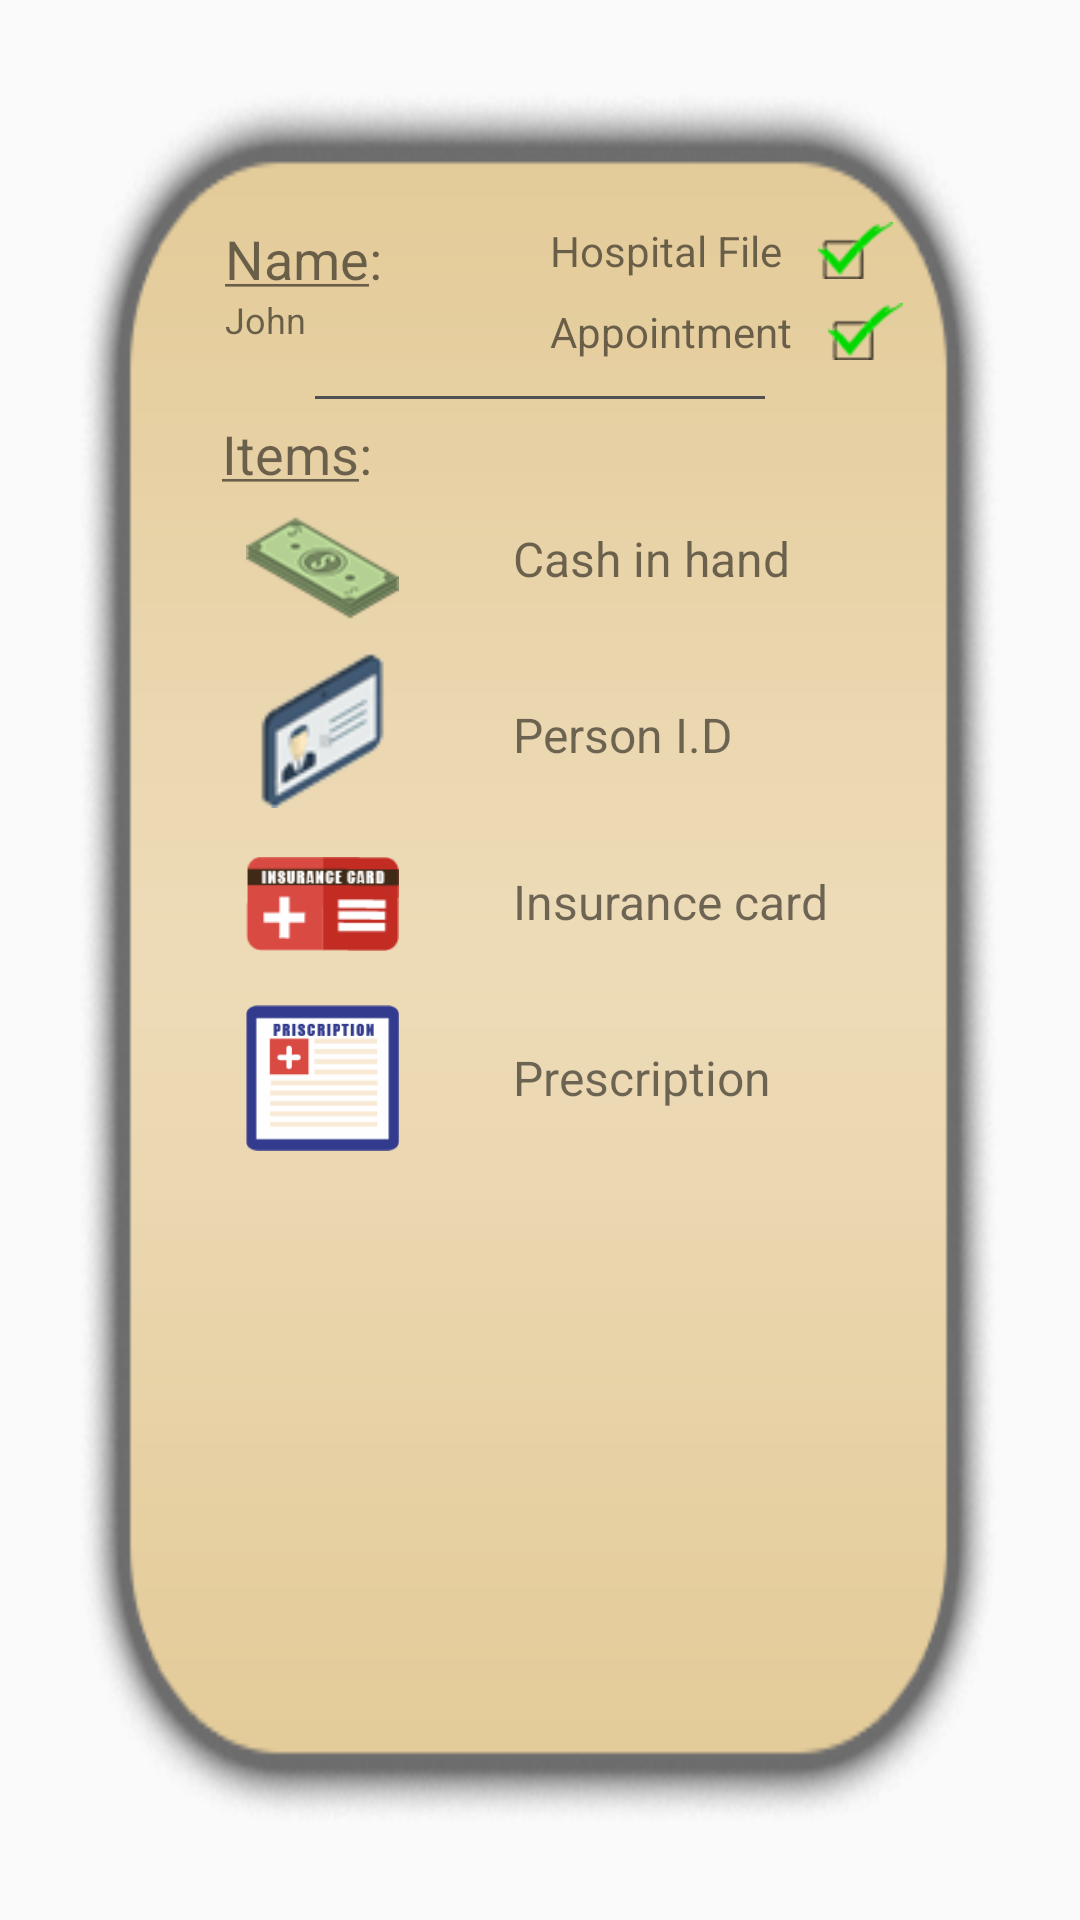

Where icons sit on this 1080*1920 app screen, as (x1, y1, x2, y2):
greentick: (818, 222, 893, 279), (828, 303, 903, 360)
idcard: (261, 654, 384, 808)
